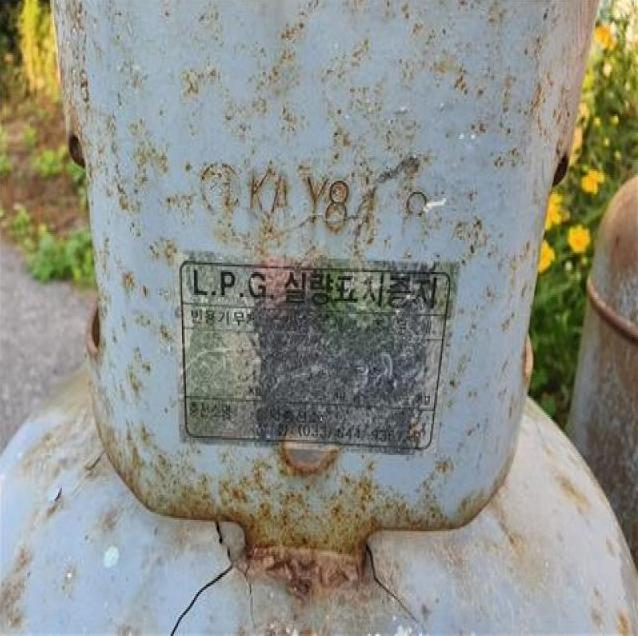cylinder: (1, 0, 638, 636)
